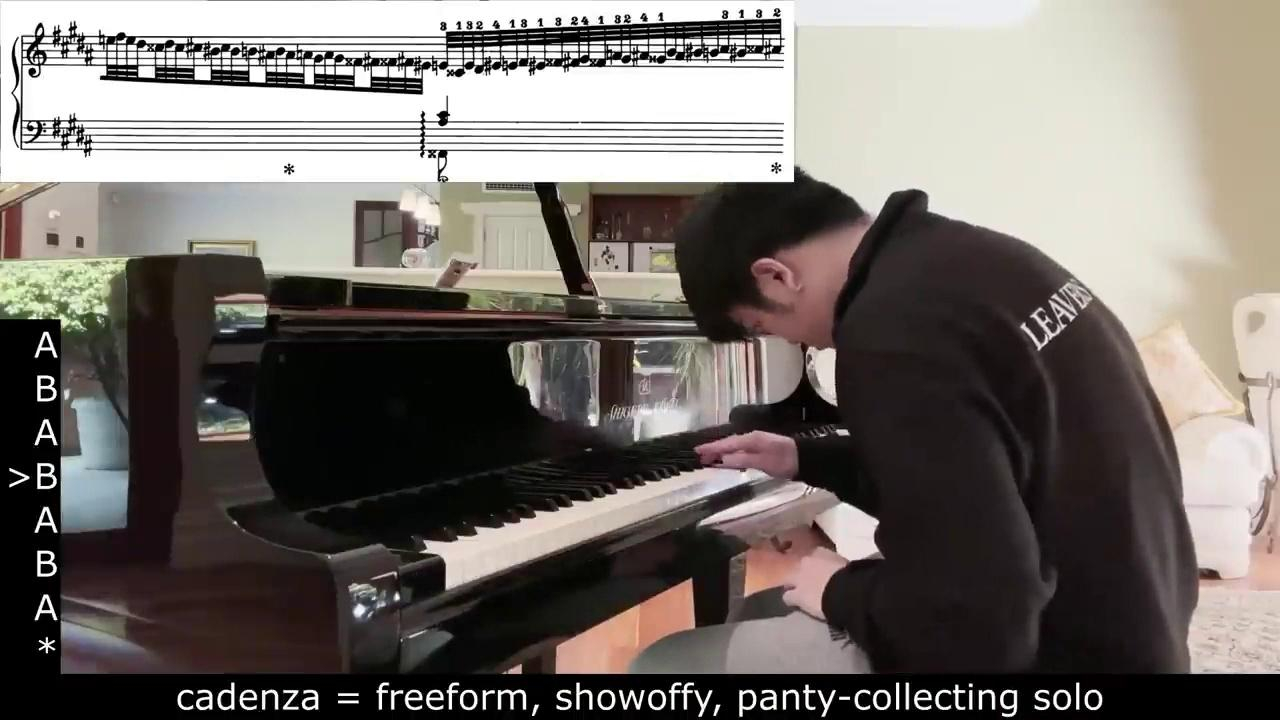BadPosture: (630, 168, 1198, 672)
